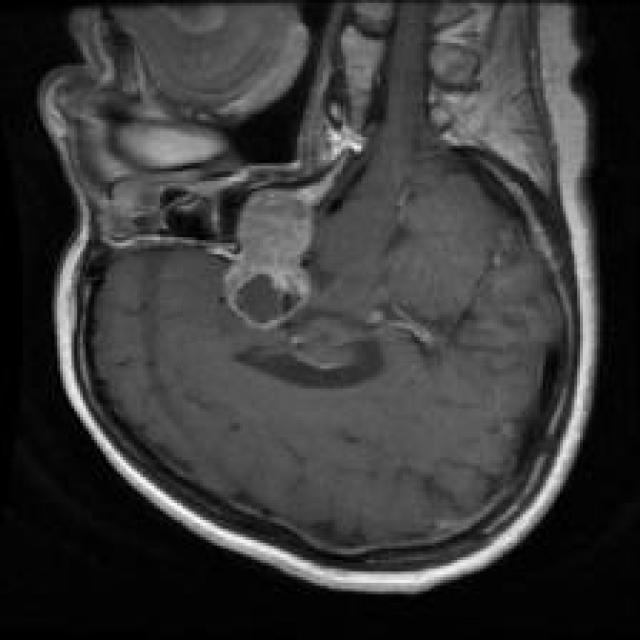pituitary_tumor: (211, 178, 332, 348)
